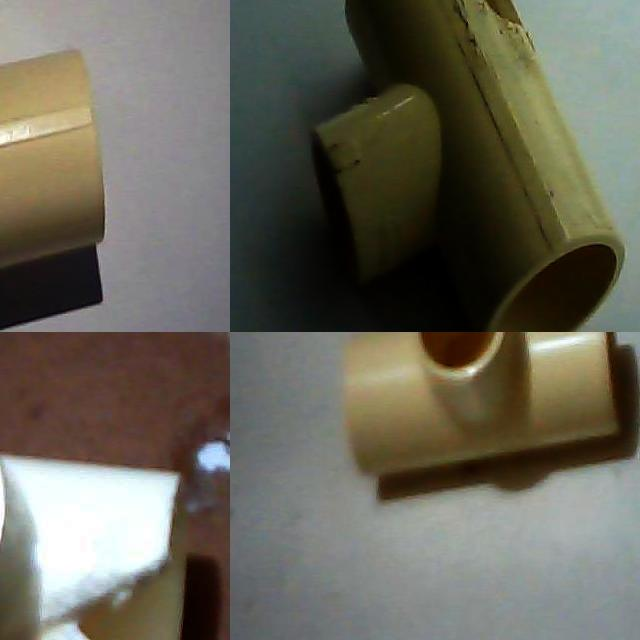Defective: (33, 505, 185, 640), (417, 0, 523, 37)
T Joint: (311, 0, 626, 332), (344, 332, 622, 477), (0, 452, 188, 640), (0, 50, 107, 281)
